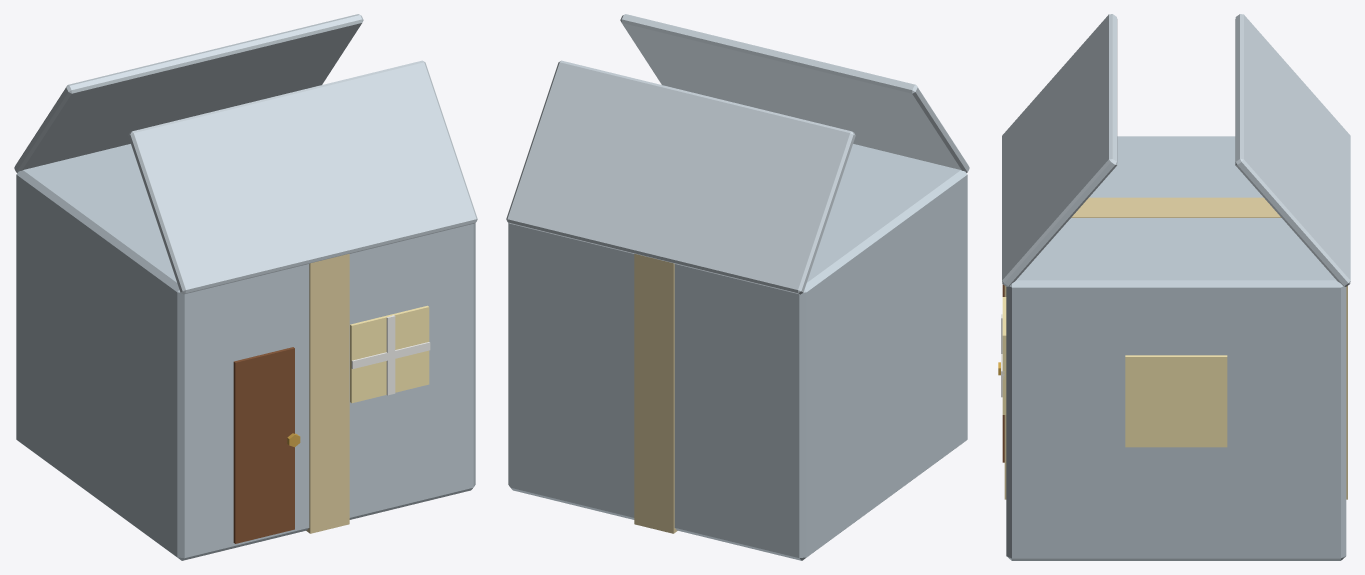
The model's file is rental_capsule.glb.
The picture shows the model from 3 angles, left to right: view 1: azimuth 30°, elevation 25°; view 2: azimuth 150°, elevation 25°; view 3: azimuth 270°, elevation 25°; orthographic projection. The views are drawn at different scales.
Visible parts, largest first — view 1: rental_capsule_Body; view 2: rental_capsule_Body; view 3: rental_capsule_Body.
Boxes of the visible parts, bbox=[...] form: rental_capsule_Body: bbox=[14, 14, 477, 560]; rental_capsule_Body: bbox=[506, 14, 969, 560]; rental_capsule_Body: bbox=[998, 14, 1350, 560].
Bounding box in the file's own units: 0.4 × 0.5 × 0.396.
